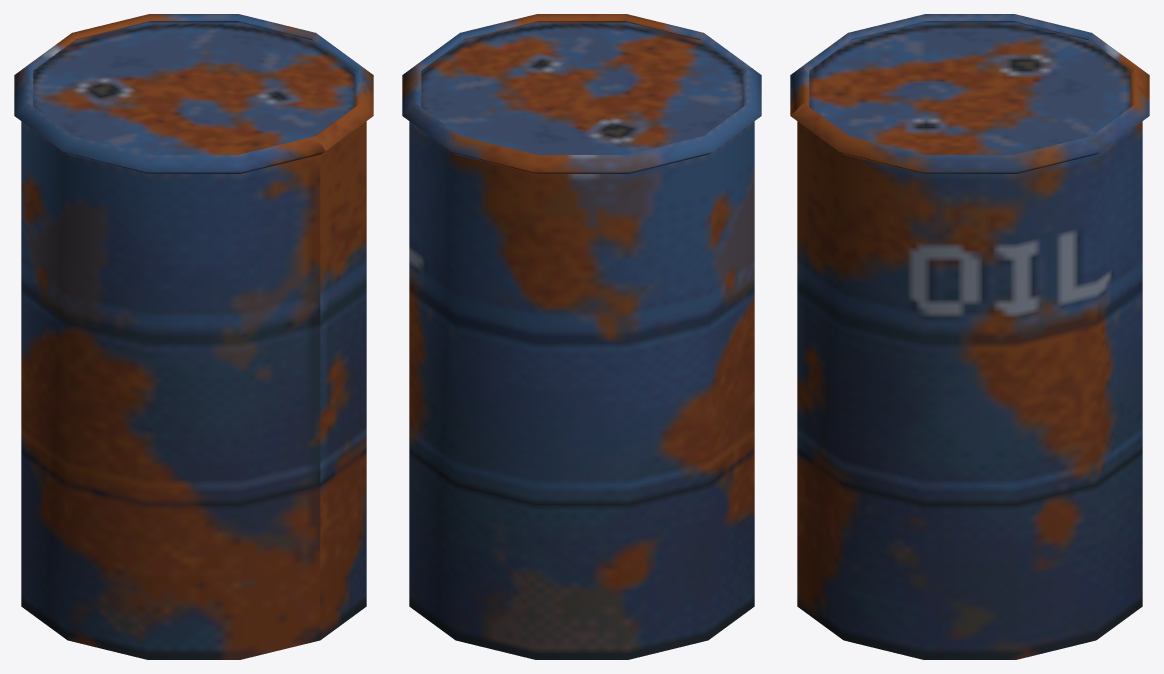
File: drum_oil_rusty.obj
3 renders of one model, left to right at view 1: azimuth 30°, elevation 25°; view 2: azimuth 150°, elevation 25°; view 3: azimuth 270°, elevation 25°, orthographic.
Visible parts, largest first — view 1: drum_oil_rusty; view 2: drum_oil_rusty; view 3: drum_oil_rusty.
Boxes of the visible parts, x1=… form: drum_oil_rusty: x1=14, y1=14, x2=373, y2=659; drum_oil_rusty: x1=402, y1=14, x2=761, y2=659; drum_oil_rusty: x1=790, y1=14, x2=1149, y2=659.
Bounding box in the file's own units: 0.5834 × 0.9 × 0.5834.
1 material, 1 textured.
